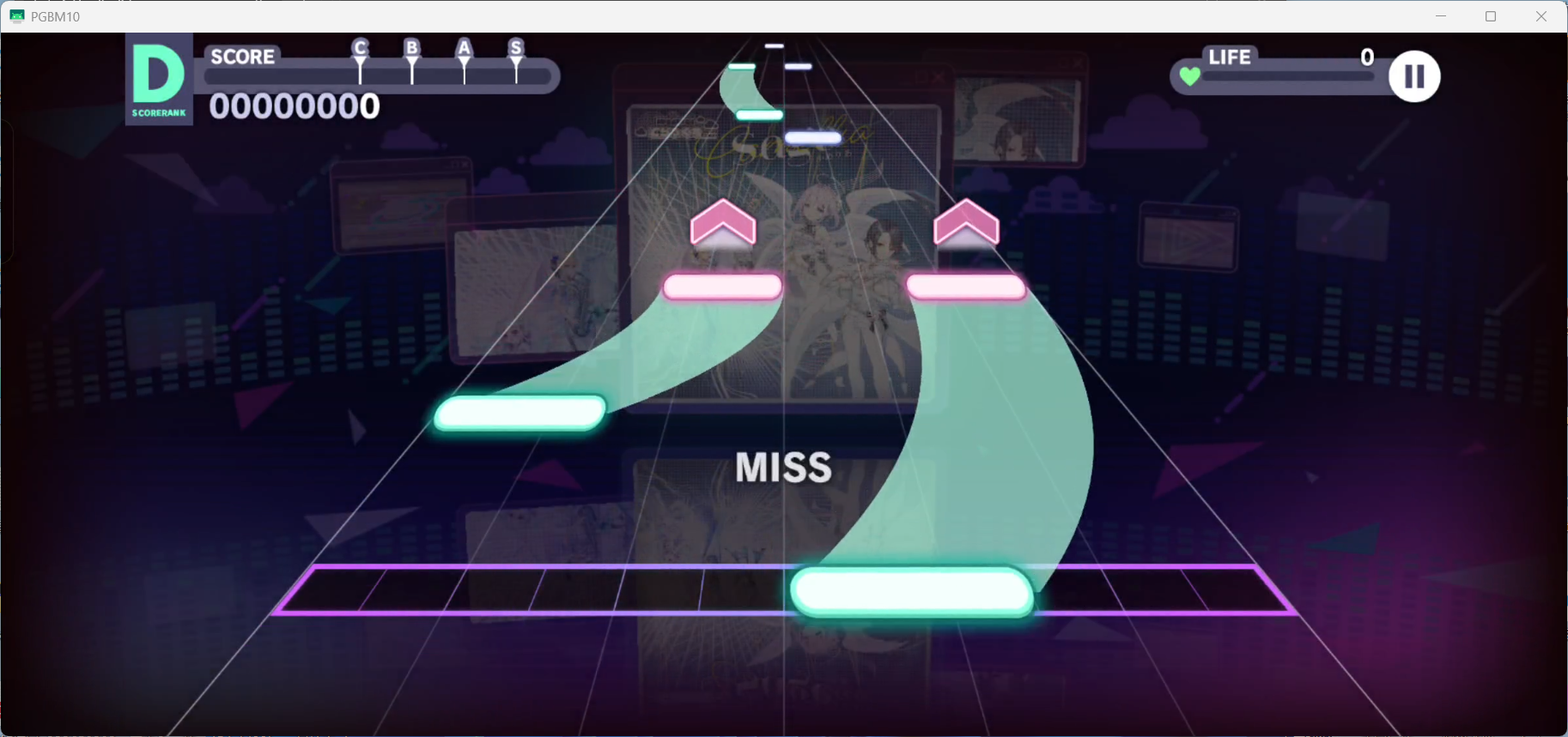flick: (933, 194, 1001, 253), (690, 197, 756, 255)
hold: (812, 301, 1093, 565), (492, 299, 781, 393), (720, 70, 776, 109)
tap: (790, 568, 1035, 619), (433, 395, 606, 432), (906, 274, 1028, 300), (663, 273, 783, 299), (784, 132, 841, 144), (736, 110, 783, 120), (727, 63, 756, 70), (784, 63, 811, 69), (764, 44, 784, 48)
